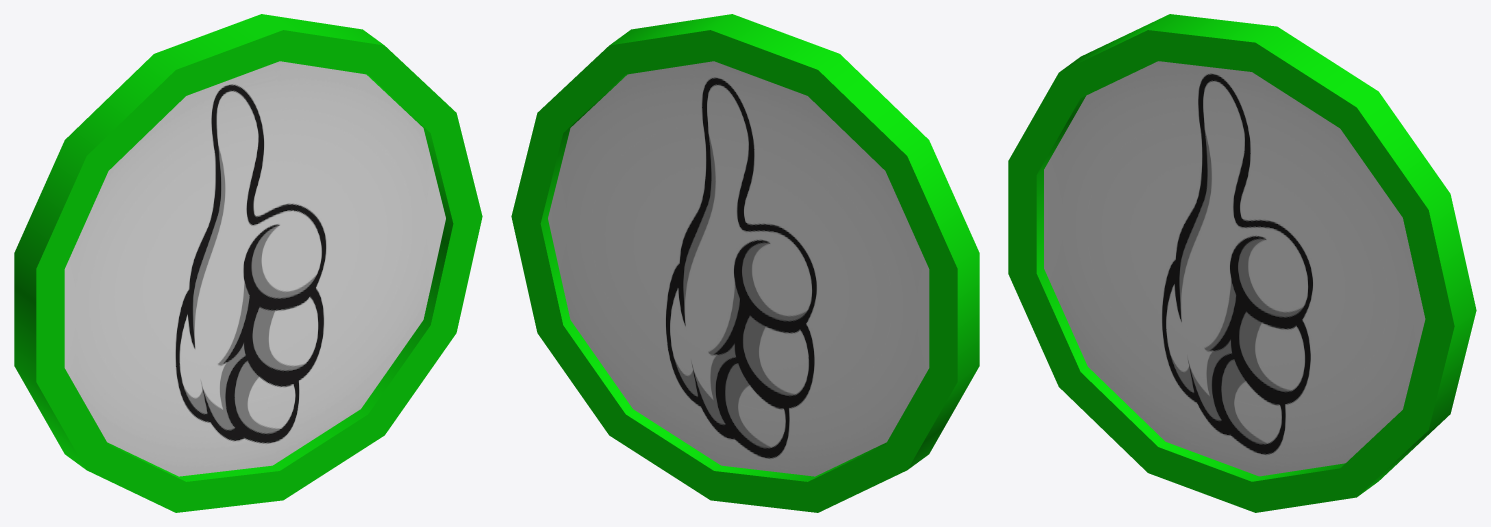
File: coin.fbx
The picture shows the model from 3 angles, left to right: view 1: azimuth 30°, elevation 25°; view 2: azimuth 150°, elevation 25°; view 3: azimuth 330°, elevation 25°; orthographic projection.
Parts seen in each view (by area): view 1: pCylinder1; view 2: pCylinder1; view 3: pCylinder1.
Part boxes in pixels (<box>): pCylinder1: <box>14,14,482,512</box>; pCylinder1: <box>511,14,979,512</box>; pCylinder1: <box>1008,14,1476,512</box>.
Bounding box in the file's own units: 6.23 × 6.27 × 0.5293.
Materials: 2 (1 with a texture image).
